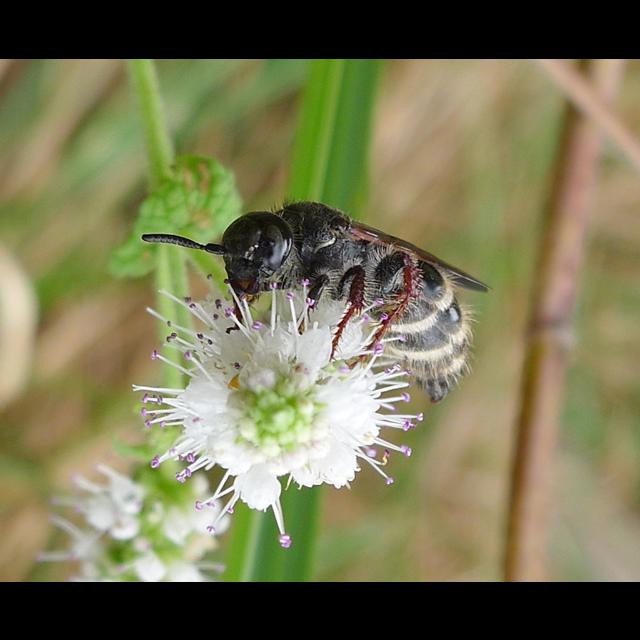Flower: (133, 280, 425, 542), (39, 466, 245, 580)
